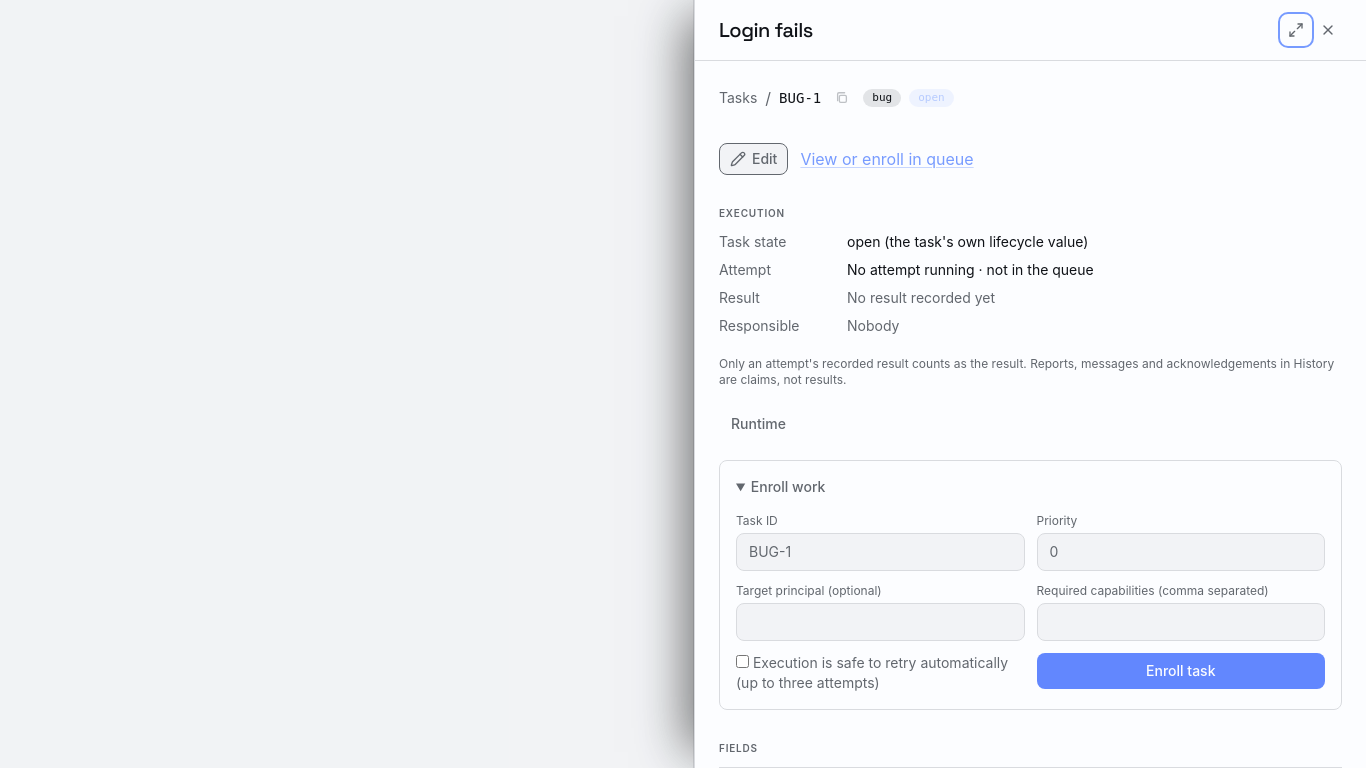
Test: someone else's claim blocks editing without losing the draft
The image size is (1366, 768).
Click the button "Edit". click: (754, 159)
box: [719,143,788,175]
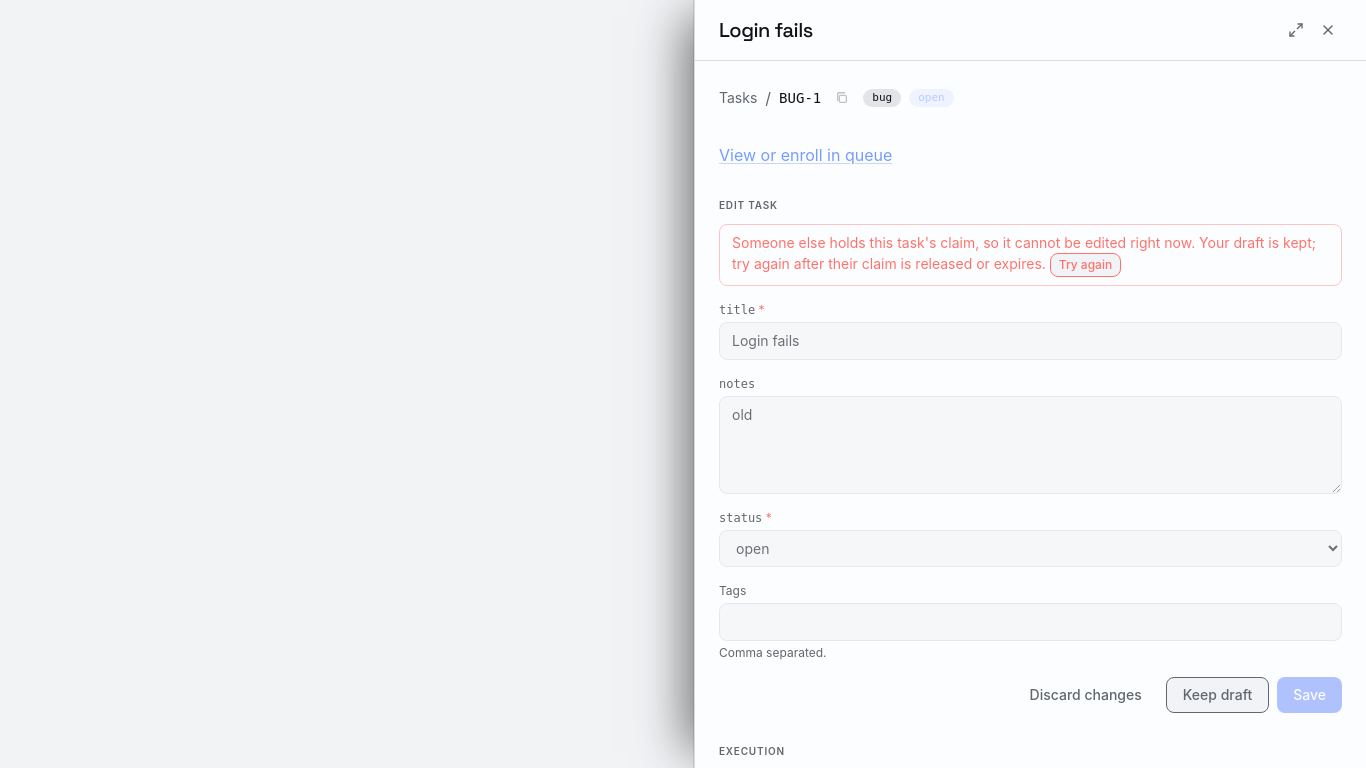
Check: the text "Someone else holds this task's claim" is shown, box [732,234,1316,272]
Check: the button "Save" is disabled, box [1277,677,1342,713]
